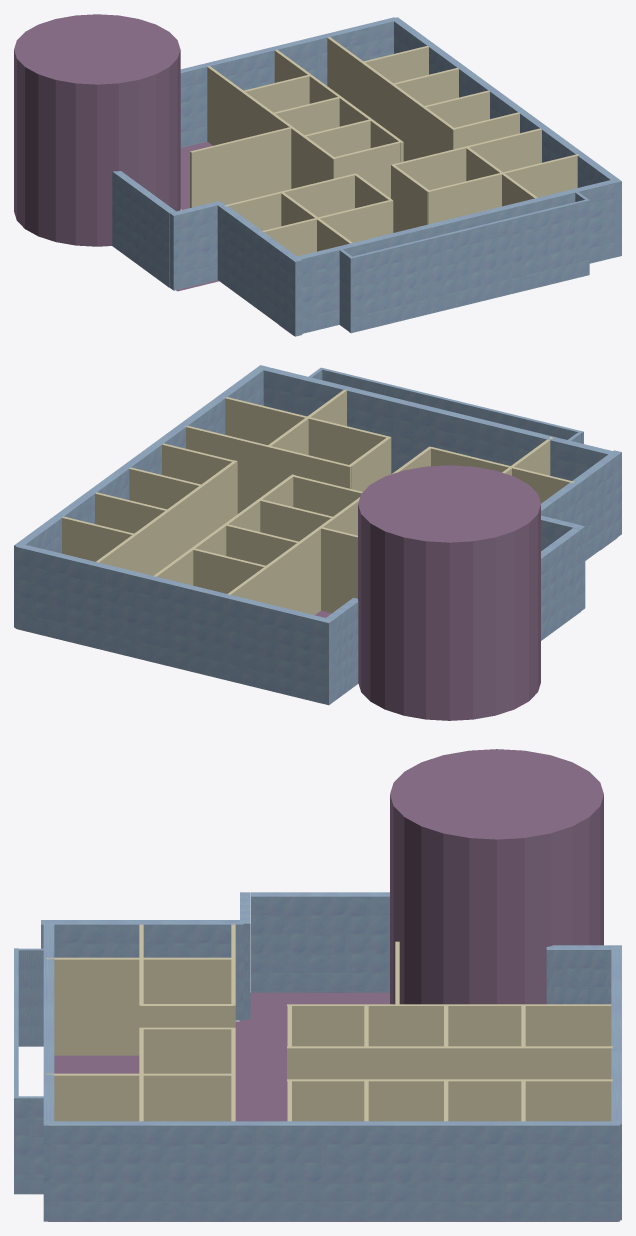
Rendered from level3_tex.fbx.
3 views of the same model, one above another, from view 1: azimuth 30°, elevation 25°; view 2: azimuth 150°, elevation 25°; view 3: azimuth 270°, elevation 25° (orthographic). The views are drawn at different scales.
Parts seen in each view (by area): view 1: pDisc1, pasted__pasted__pasted__pCube1 (×3), pasted__pasted__pasted__pasted__pasted__pasted__pasted__past (×11), pasted__pasted__pasted__pasted__pasted__pCube1 (×5), pasted__pasted__pasted__pasted__pCube1 (×2), pasted__pasted__pasted__pasted__pasted__pasted__pasted__pCub (×4), pasted__pasted__pasted__pasted__pasted__pasted__pCube1 (×5), pasted__pasted__pCube1, pasted__pCube1, pPlane2; view 2: pDisc1, pasted__pCube1, pasted__pasted__pasted__pasted__pasted__pasted__pasted__past (×9), pasted__pasted__pasted__pCube1 (×3), pasted__pasted__pCube1, pasted__pasted__pasted__pasted__pasted__pasted__pCube1 (×6), pasted__pasted__pasted__pasted__pCube1 (×2), pasted__pasted__pasted__pasted__pasted__pCube1 (×4), pasted__pasted__pasted__pasted__pasted__pasted__pasted__pCub (×3); view 3: pasted__pasted__pasted__pCube1 (×3), pDisc1, pasted__pasted__pasted__pasted__pasted__pasted__pCube1 (×4), pasted__pasted__pasted__pasted__pCube1 (×3), pasted__pasted__pasted__pasted__pasted__pCube1 (×4), pPlane2, pasted__pasted__pCube1, pasted__pasted__pasted__pasted__pasted__pasted__pasted__pCub, pasted__pCube1.
Part boxes in pixels (x1=…): pDisc1: x1=14, y1=14, x2=180, y2=246; pasted__pasted__pasted__pCube1 (×3): x1=216, y1=17, x2=621, y2=336; pasted__pasted__pasted__pasted__pasted__pasted__pasted__past (×11): x1=224, y1=112, x2=578, y2=256; pasted__pasted__pasted__pasted__pasted__pCube1 (×5): x1=169, y1=66, x2=538, y2=331; pasted__pasted__pasted__pasted__pCube1 (×2): x1=112, y1=36, x2=456, y2=287; pasted__pasted__pasted__pasted__pasted__pasted__pasted__pCub (×4): x1=190, y1=75, x2=489, y2=208; pasted__pasted__pasted__pasted__pasted__pasted__pCube1 (×5): x1=274, y1=46, x2=428, y2=251; pasted__pasted__pCube1: x1=292, y1=178, x2=621, y2=333; pasted__pCube1: x1=180, y1=17, x2=398, y2=147; pPlane2: x1=176, y1=141, x2=293, y2=335; pDisc1: x1=358, y1=465, x2=540, y2=720; pasted__pCube1: x1=15, y1=543, x2=333, y2=705; pasted__pasted__pasted__pasted__pasted__pasted__pasted__past (×9): x1=162, y1=397, x2=574, y2=541; pasted__pasted__pasted__pCube1 (×3): x1=14, y1=365, x2=621, y2=627; pasted__pasted__pCube1: x1=256, y1=365, x2=618, y2=480; pasted__pasted__pasted__pasted__pasted__pasted__pCube1 (×6): x1=62, y1=437, x2=553, y2=701; pasted__pasted__pasted__pasted__pCube1 (×2): x1=96, y1=460, x2=580, y2=640; pasted__pasted__pasted__pasted__pasted__pCube1 (×4): x1=95, y1=388, x2=585, y2=615; pasted__pasted__pasted__pasted__pasted__pasted__pasted__pCub (×3): x1=129, y1=467, x2=357, y2=613; pasted__pasted__pasted__pCube1 (×3): x1=14, y1=920, x2=619, y2=1221; pDisc1: x1=390, y1=749, x2=603, y2=1004; pasted__pasted__pasted__pasted__pasted__pasted__pCube1 (×4): x1=46, y1=945, x2=620, y2=1079; pasted__pasted__pasted__pasted__pCube1 (×3): x1=15, y1=892, x2=612, y2=1194; pasted__pasted__pasted__pasted__pasted__pCube1 (×4): x1=15, y1=892, x2=611, y2=1121; pPlane2: x1=48, y1=992, x2=617, y2=1221; pasted__pasted__pCube1: x1=43, y1=921, x2=54, y2=1124; pasted__pasted__pasted__pasted__pasted__pasted__pasted__pCub: x1=141, y1=1004, x2=233, y2=1027; pasted__pCube1: x1=611, y1=945, x2=621, y2=1220.
Size of the model in its own units: 15.74 by 5.86 by 15.33.
